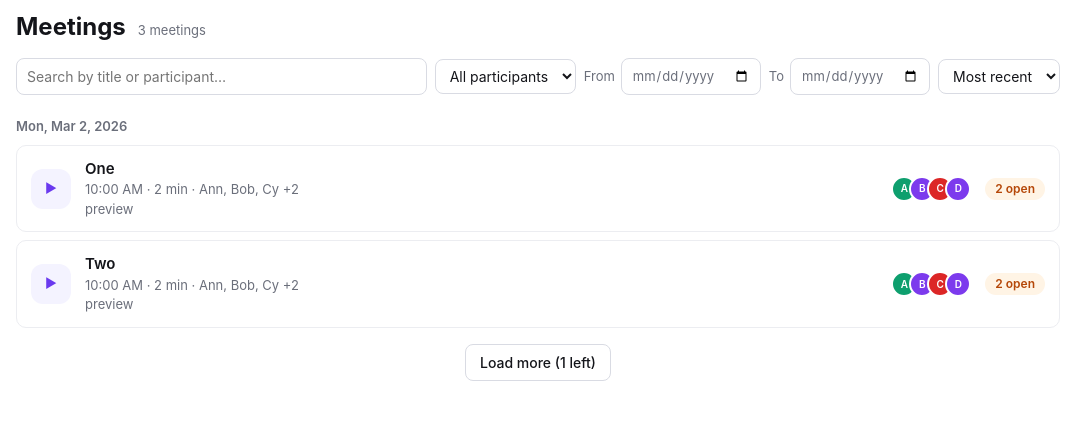
Test: library › load more appends without duplicating rows
Expected: the text "One" is shown, [85,159,115,178]
What coordinates should you click on to do the following:
click the button "Load more (1 left)"
I would click on:
 (538, 362)
Its box is [465,344,611,381].
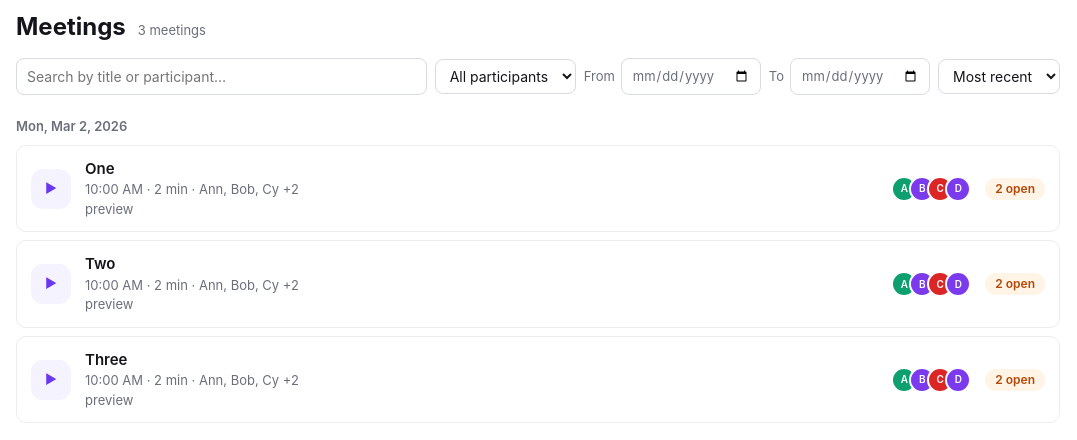
Expected: the text "Two" is shown once, [85,254,116,273]
Expected: the text "Three" is shown, [85,350,128,369]
